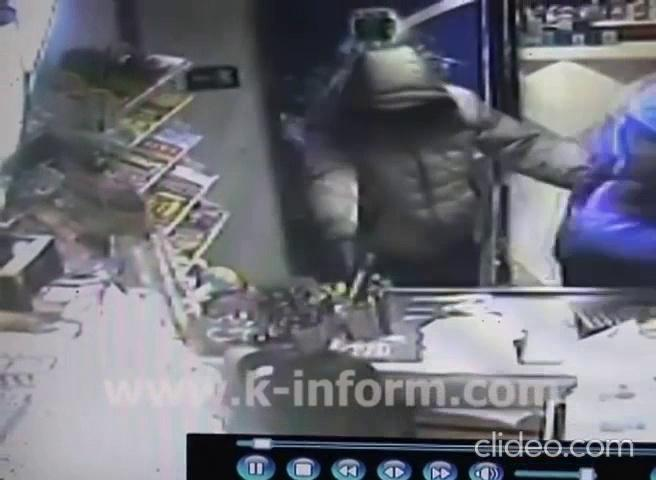person: (299, 44, 602, 286)
pistol: (345, 251, 381, 308)
